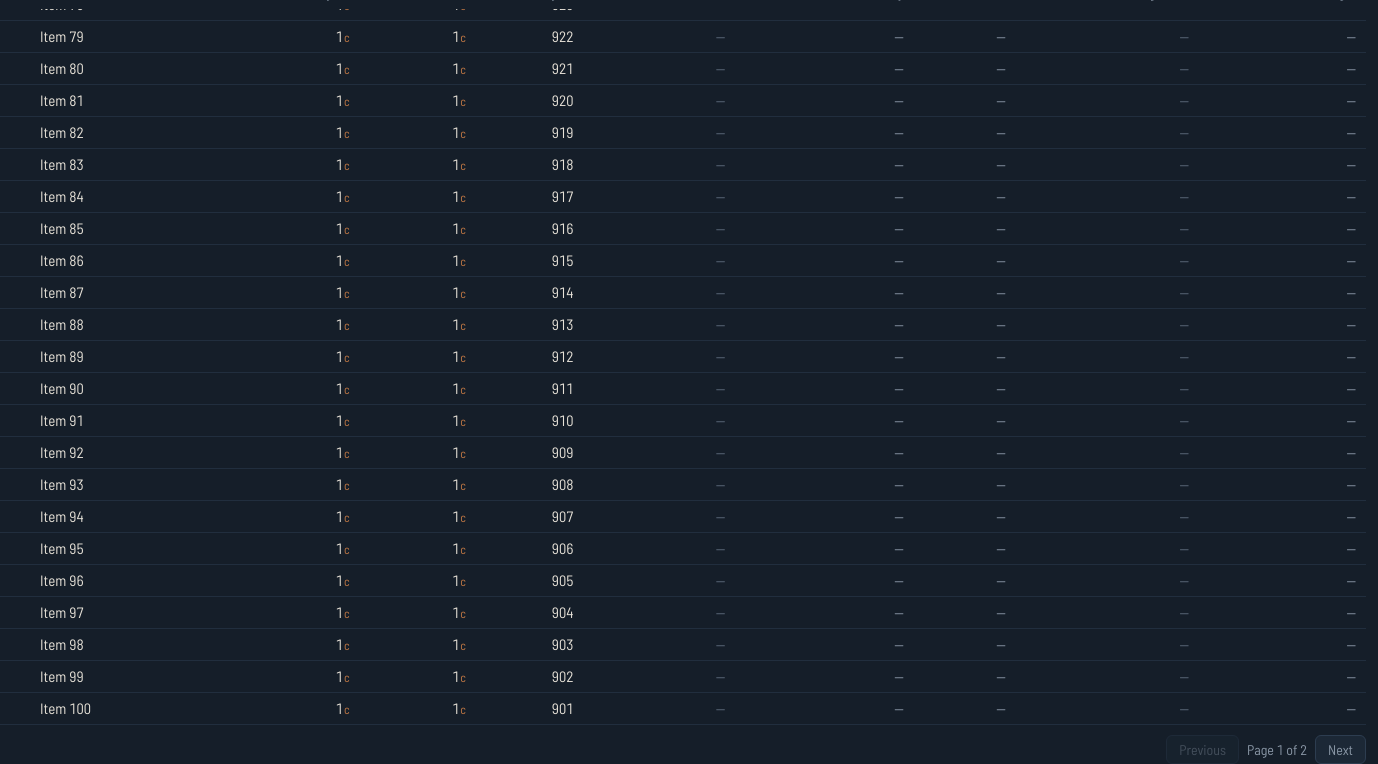
MarketView table › shows 100 rows per page
(page scrolled)
Expected: the text "Page 1 of 2" is shown, [1247,740,1307,760]
Expected: the button "Previous" is disabled, [1166,735,1239,763]
Click the button "Next" at x=1340, y=750, box [1315,735,1366,763]
(page scrolled)
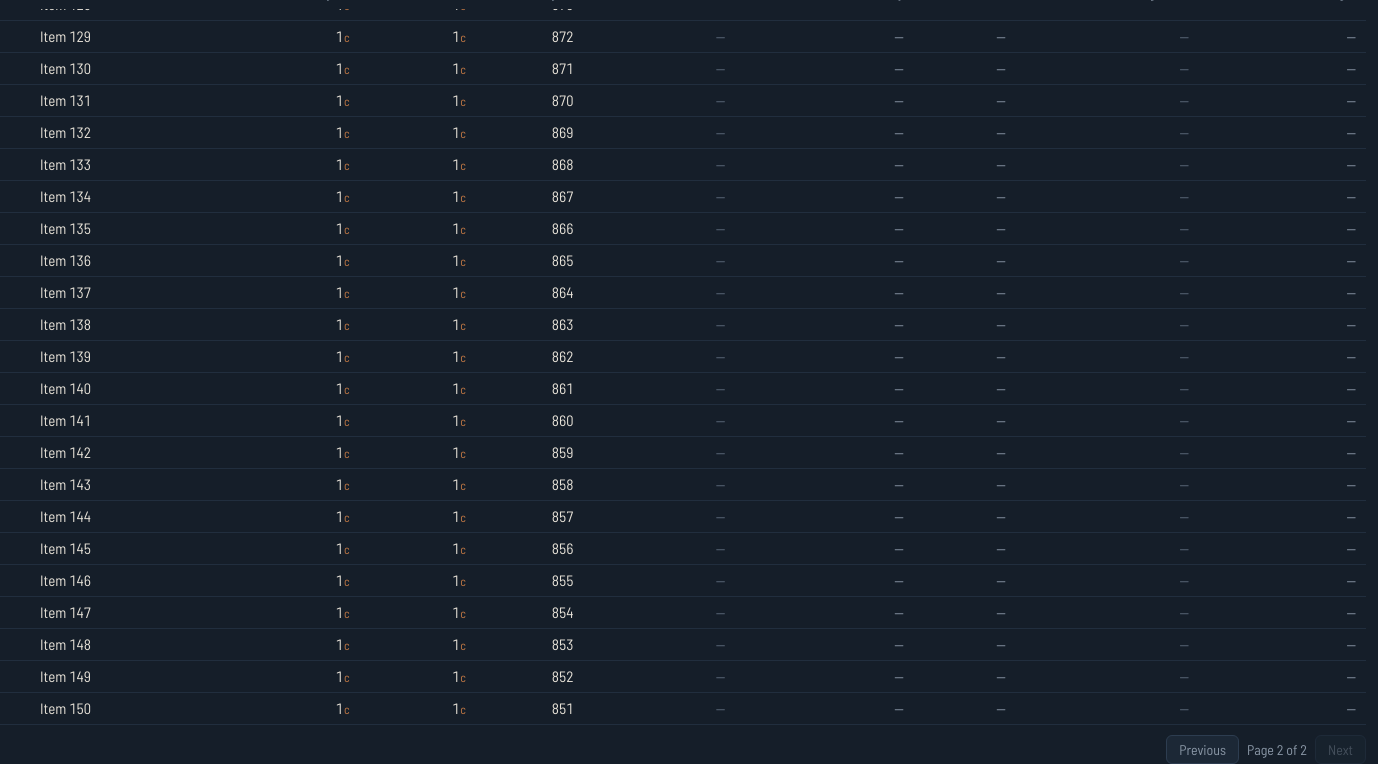
Expected: the text "Page 2 of 2" is shown, [1247,740,1307,760]
Expected: the button "Next" is disabled, [1315,735,1366,763]
